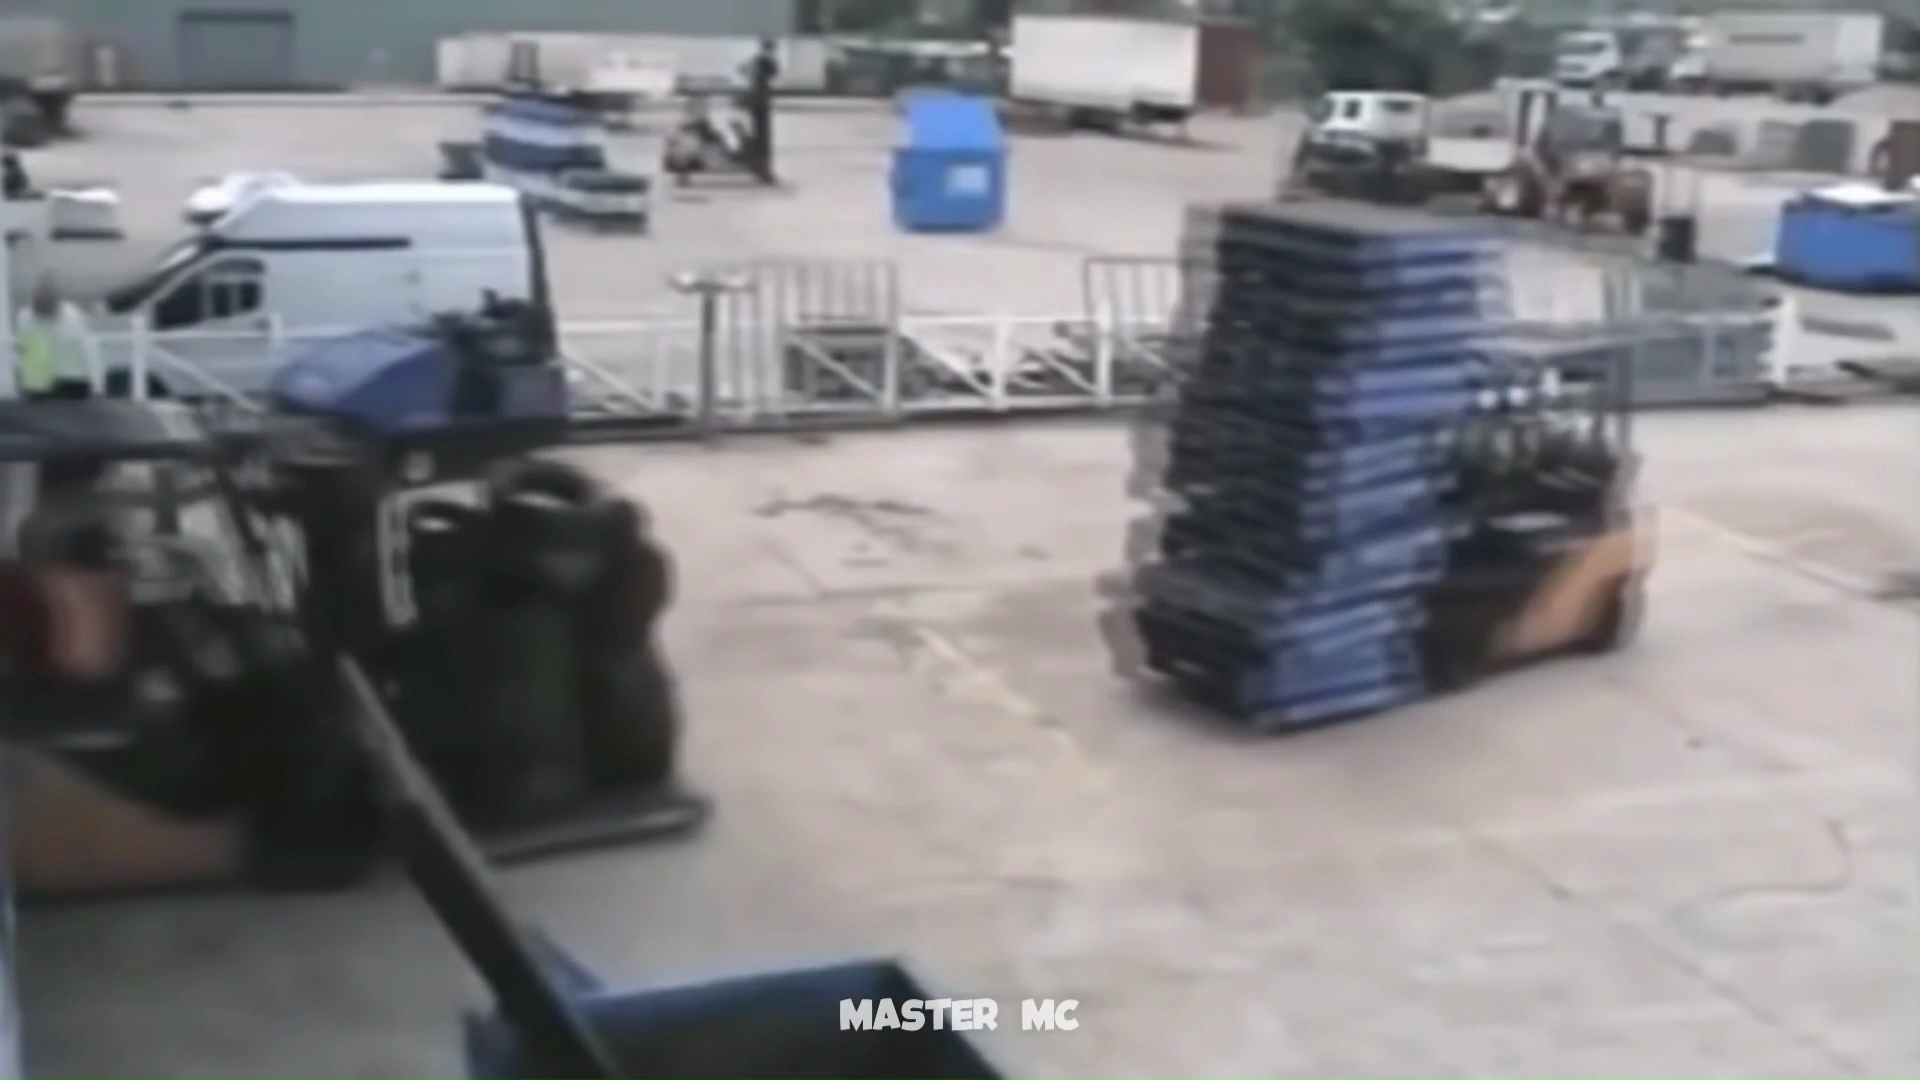forklift: (3, 396, 721, 887), (1121, 206, 1655, 745)
